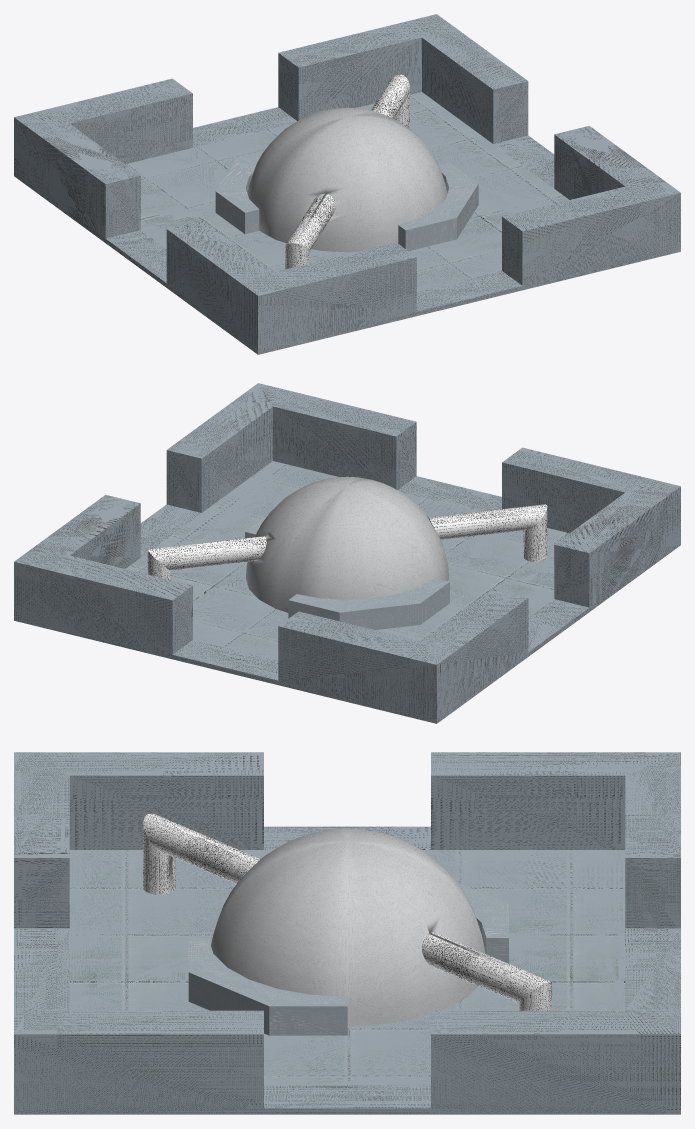
The model's file is Engine.fbx.
3 views of the same model, one above another, from view 1: azimuth 30°, elevation 25°; view 2: azimuth 150°, elevation 25°; view 3: azimuth 270°, elevation 25° (orthographic). The views are drawn at different scales.
Visible parts, largest first — view 1: Group1; view 2: Group1; view 3: Group1.
Boxes of the visible parts, x1,y1,x2,y2 form: Group1: (14,14,680,354); Group1: (14,383,680,723); Group1: (14,752,680,1114).
Bounding box in the file's own units: 144 × 31.5 × 144.
